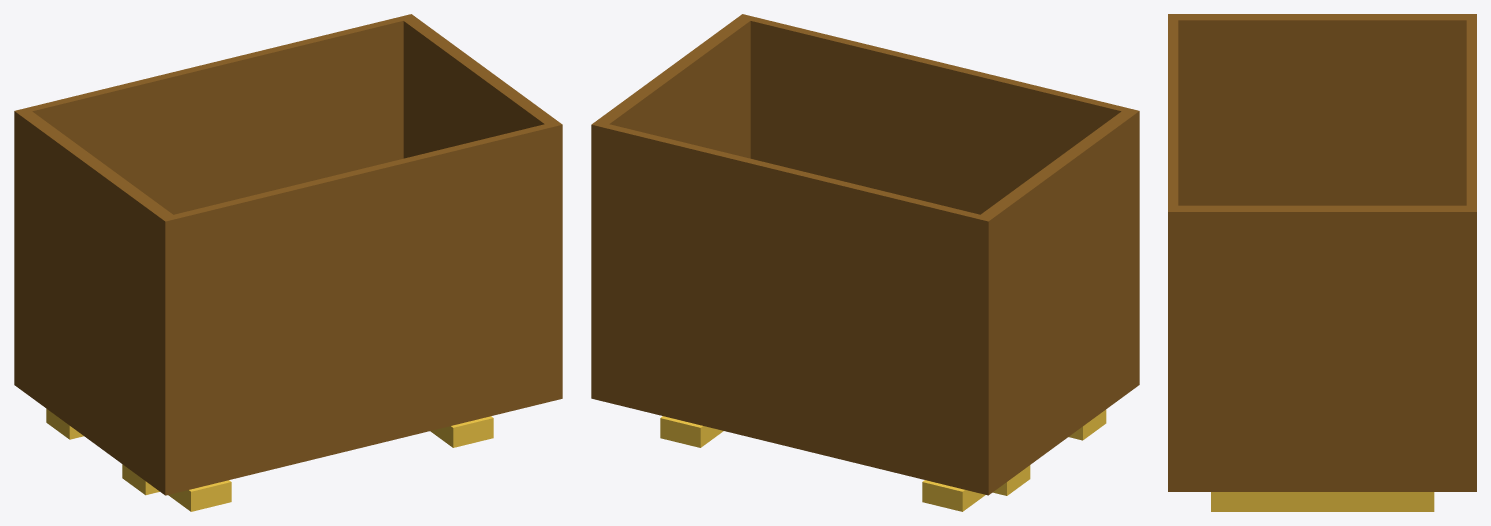
File: speedPack.glb
3 views of the same model, side by side, from view 1: azimuth 30°, elevation 25°; view 2: azimuth 150°, elevation 25°; view 3: azimuth 270°, elevation 25° (orthographic). The views are drawn at different scales.
Parts seen in each view (by area): view 1: Cube.008, Cube.002, Cube.003; view 2: Cube.008, Cube.002, Cube.003; view 3: Cube.008, Cube.003, Cube.001, Cube.
Boxes of the visible parts, x1=… form: Cube.008: x1=14, y1=14, x2=562, y2=495; Cube.002: x1=168, y1=480, x2=231, y2=511; Cube.003: x1=430, y1=416, x2=493, y2=447; Cube.008: x1=591, y1=14, x2=1139, y2=495; Cube.002: x1=922, y1=480, x2=985, y2=511; Cube.003: x1=660, y1=416, x2=723, y2=447; Cube.008: x1=1168, y1=14, x2=1476, y2=491; Cube.003: x1=1211, y1=492, x2=1434, y2=511; Cube.001: x1=1222, y1=492, x2=1270, y2=508; Cube: x1=1377, y1=492, x2=1424, y2=508.
Bounding box in the file's own units: 6.03 × 4.6 × 3.98.
